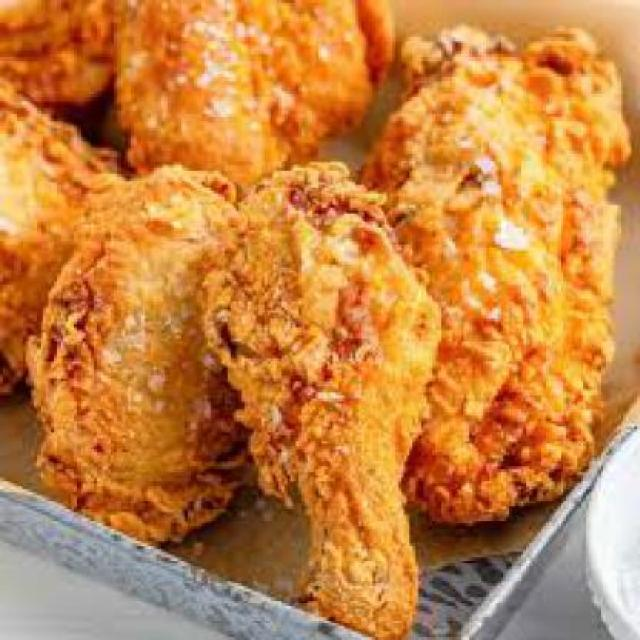Frango: (0, 0, 637, 629)
